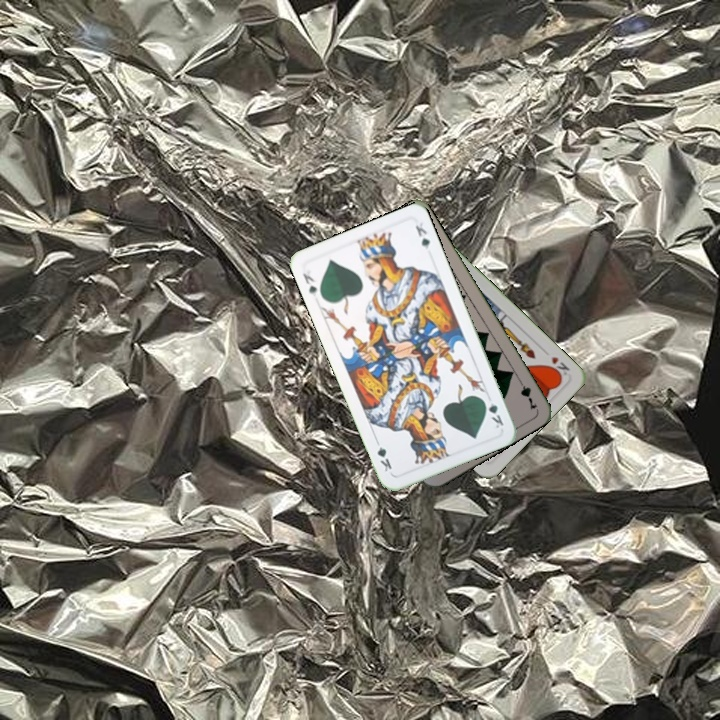G7: (514, 374, 540, 412)
GK: (479, 395, 506, 431), (298, 269, 320, 299)
HK: (544, 352, 572, 380)
